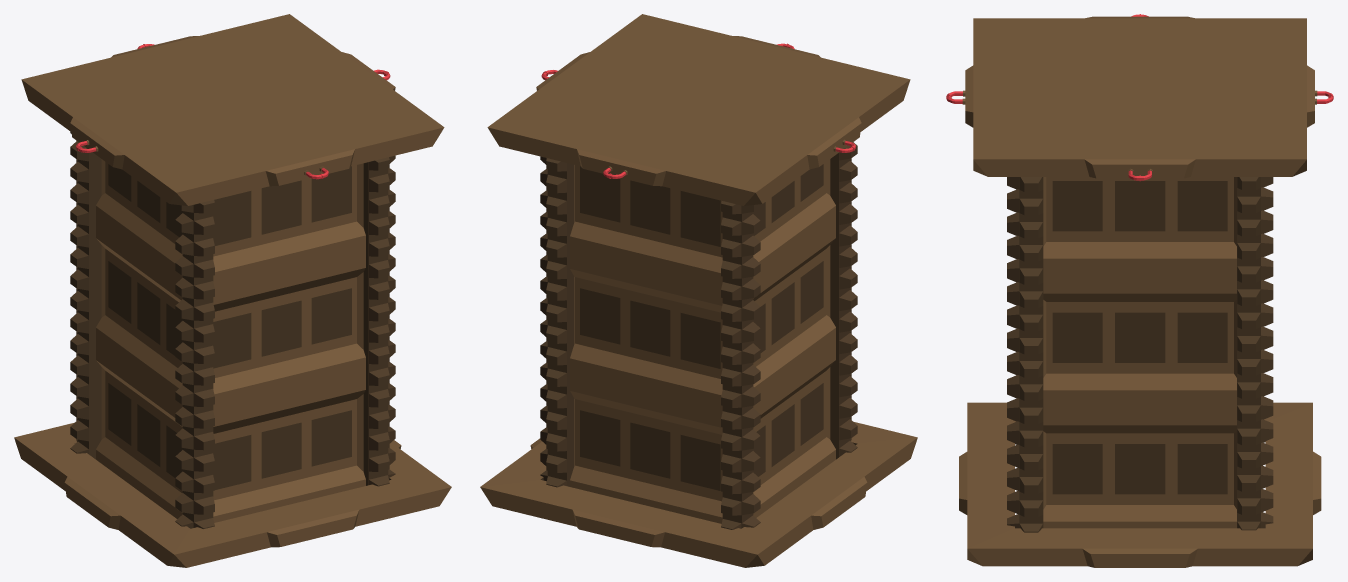
The model's file is DragableBase.fbx.
3 views of the same model, side by side, from view 1: azimuth 30°, elevation 25°; view 2: azimuth 150°, elevation 25°; view 3: azimuth 270°, elevation 25° (orthographic). The views are drawn at different scales.
Parts seen in each view (by area): view 1: Column, Top, HoleFrame; view 2: Column, Top, HoleFrame; view 3: Column, Top, HoleFrame.
Boxes of the visible parts, left/top/right/bottom form: Column: left=70, top=131, right=395, bottom=528; Top: left=21, top=14, right=444, bottom=205; HoleFrame: left=14, top=422, right=451, bottom=567; Column: left=540, top=142, right=857, bottom=529; Top: left=487, top=14, right=910, bottom=205; HoleFrame: left=480, top=421, right=917, bottom=567; Column: left=1007, top=177, right=1273, bottom=532; Top: left=965, top=16, right=1314, bottom=178; HoleFrame: left=959, top=402, right=1321, bottom=567.
Bounding box in the file's own units: 160 × 185 × 160.
